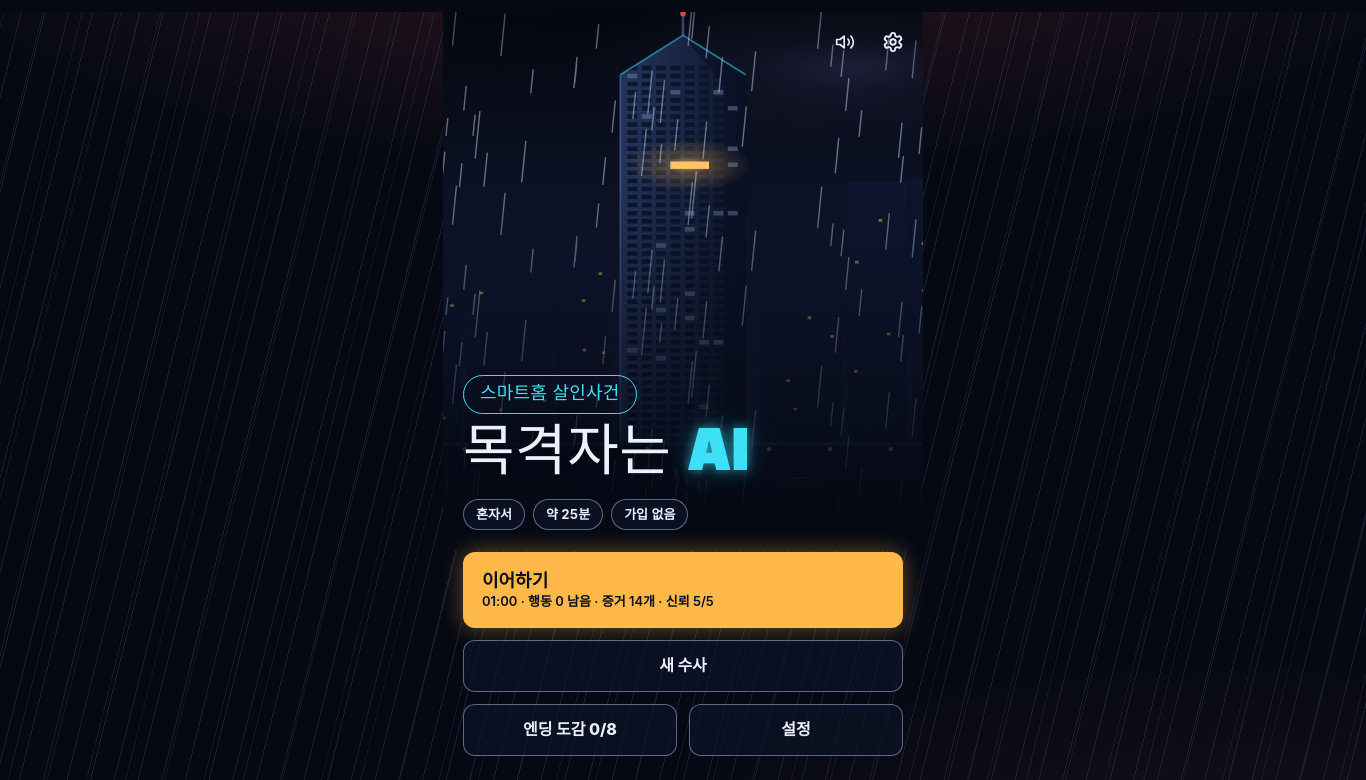
사이렌 › 옛 저장(사이렌 뒤 강제 지목 화면, forced:true)도 뒤로 갈 수 있다
Click the button with test id "title-resume": (683, 590) x1=463 y1=552 x2=903 y2=628
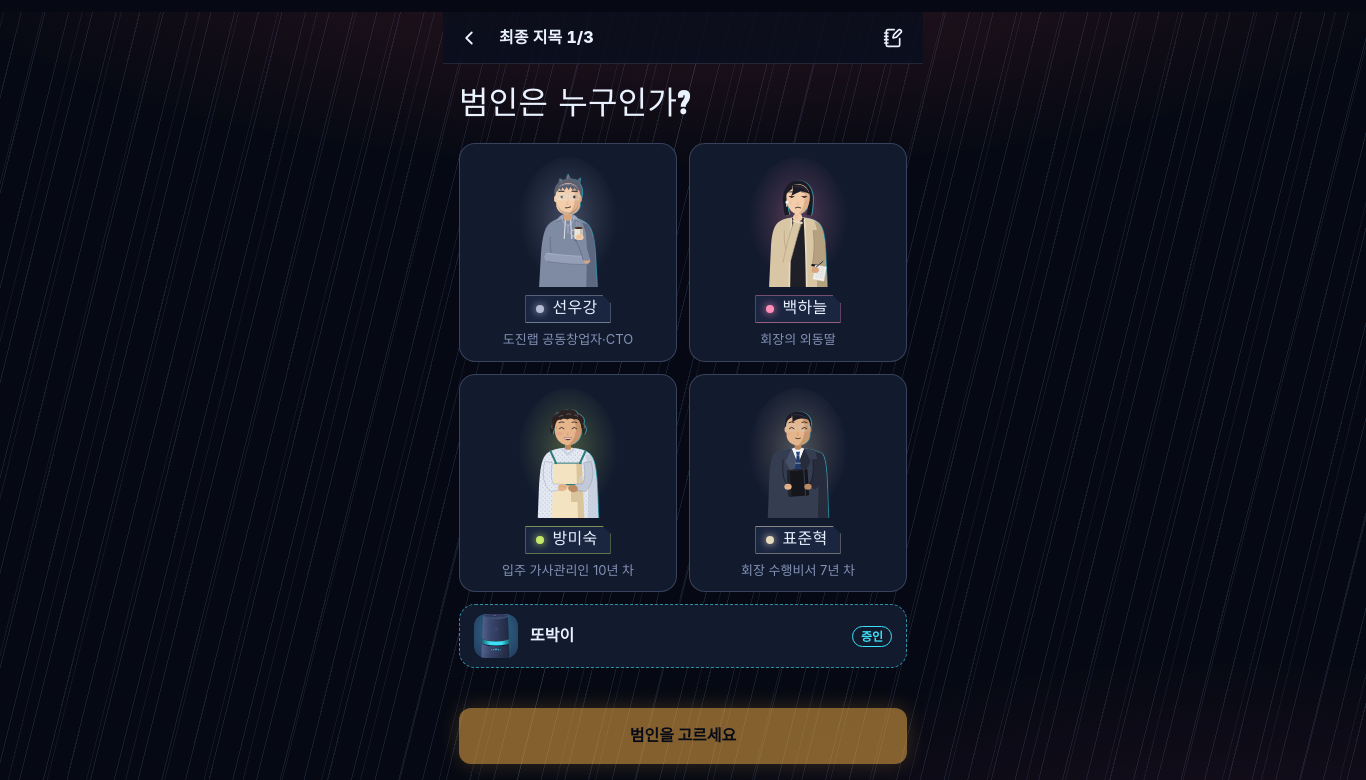
Expected: the button named "지목 그만두고 돌아가기" is enabled, x1=447 y1=16 x2=491 y2=60
Expected: the element with class "wt-pick" is shown, x1=443 y1=64 x2=923 y2=779
